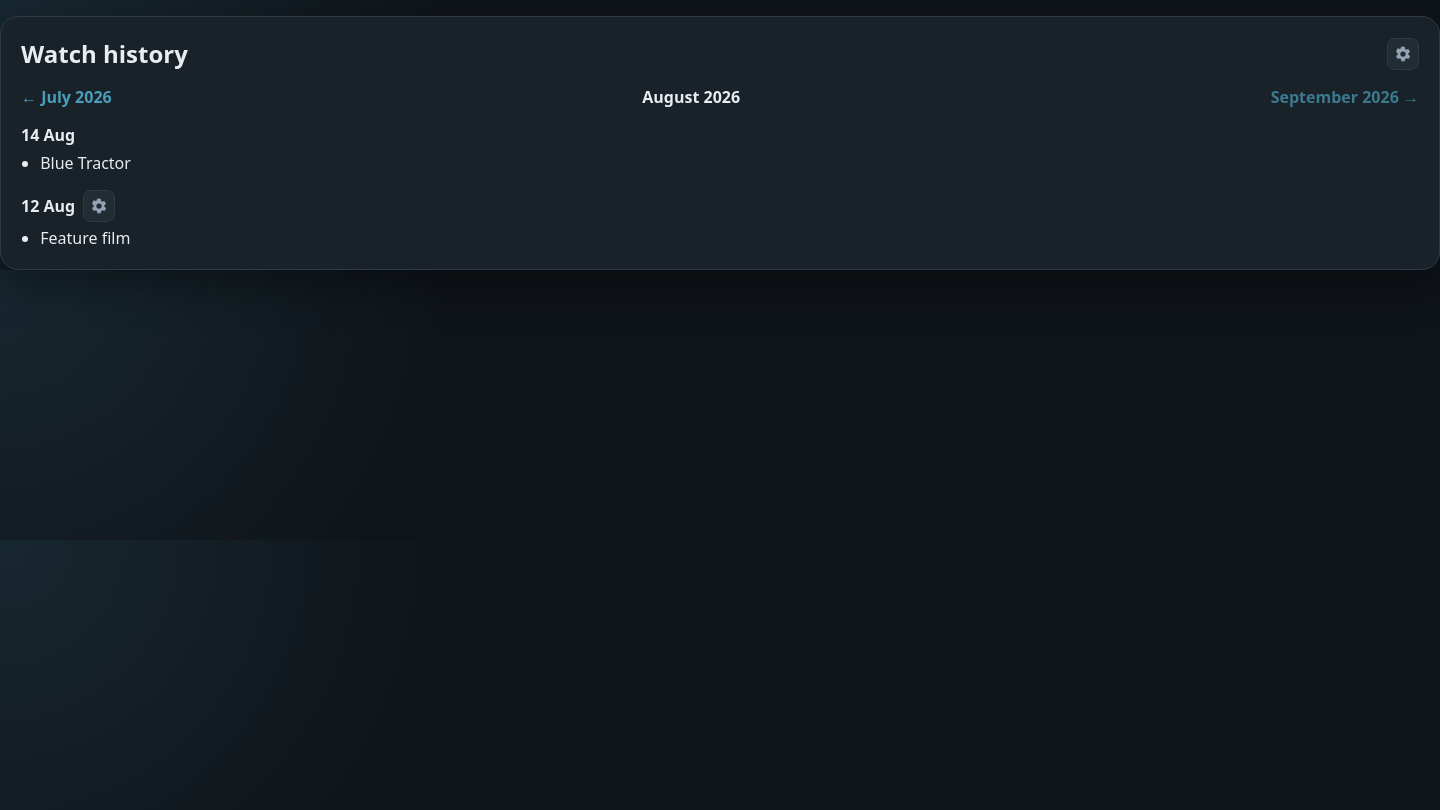
Test: WatchArchiveSection › opens a past-day dialog that owns the single-day GET and leaves the diary without Remove
Check: the list item "Feature film" is shown, box [40,227,130,249]
Click the button named "Correct watches for 2026-08-12".
click(99, 206)  # box [83,190,115,222]
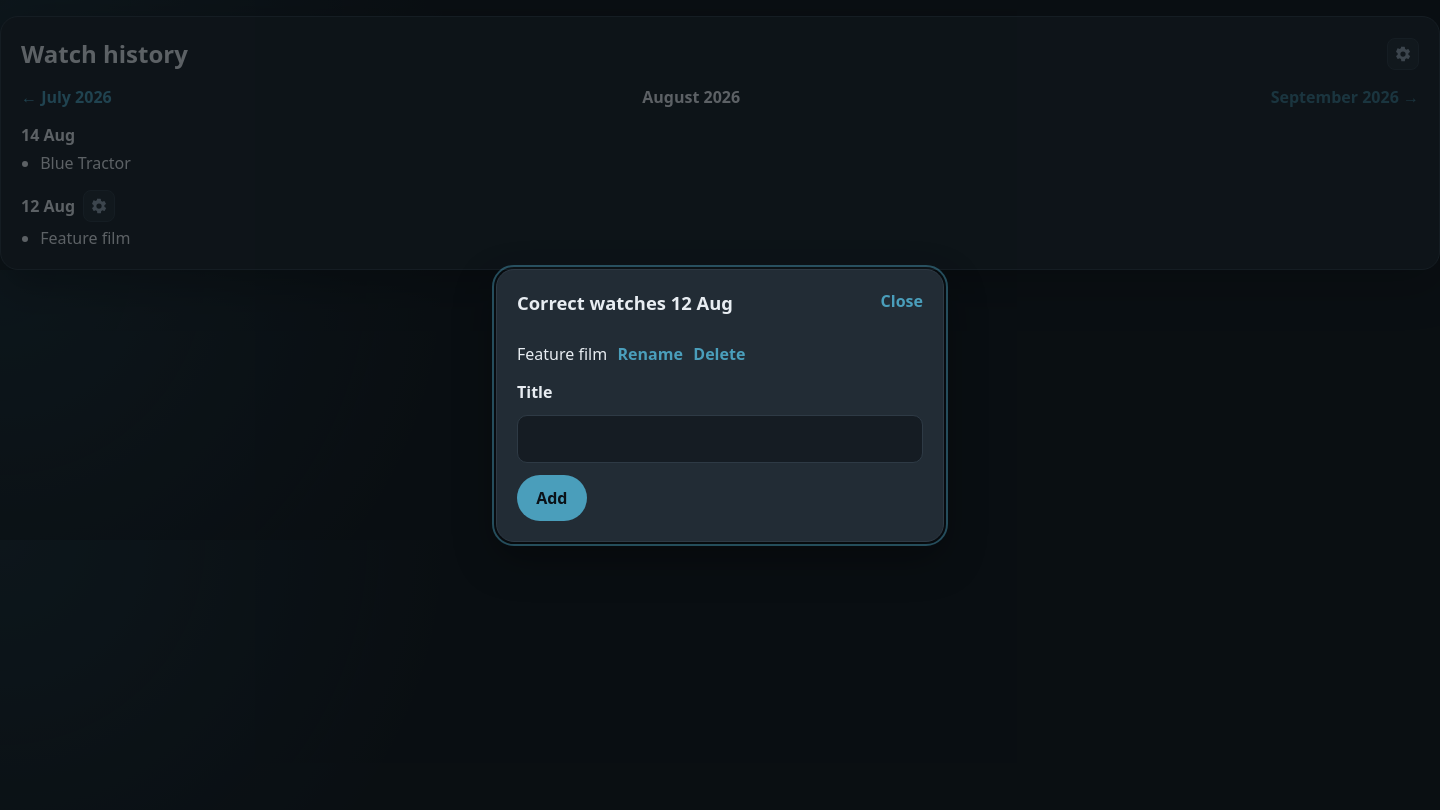
Check: the heading "Correct watches 12 Aug" is shown, box [517,290,733,314]
Check: the text "Feature film" is shown, box [517,342,607,364]
Check: the dialog is shown, box [496,268,944,542]
